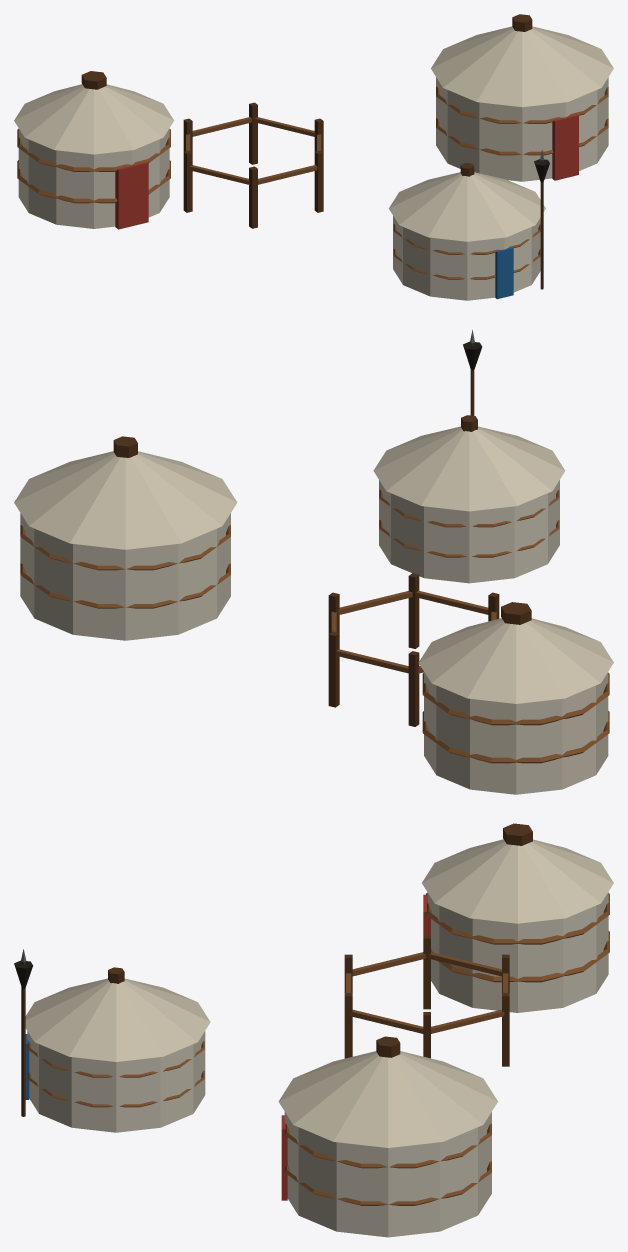
File: orc_compound.glb
3 views of the same model, one above another, from view 1: azimuth 30°, elevation 25°; view 2: azimuth 150°, elevation 25°; view 3: azimuth 270°, elevation 25° (orthographic). The views are drawn at different scales.
Parts seen in each view (by area): view 1: orc_compound; view 2: orc_compound; view 3: orc_compound.
Boxes of the visible parts, x1,y1,x2,y2 form: orc_compound: [14, 14, 613, 300]; orc_compound: [14, 330, 613, 794]; orc_compound: [14, 823, 613, 1237].
Size of the model in its own units: 5.59 by 1.43 by 4.63.
